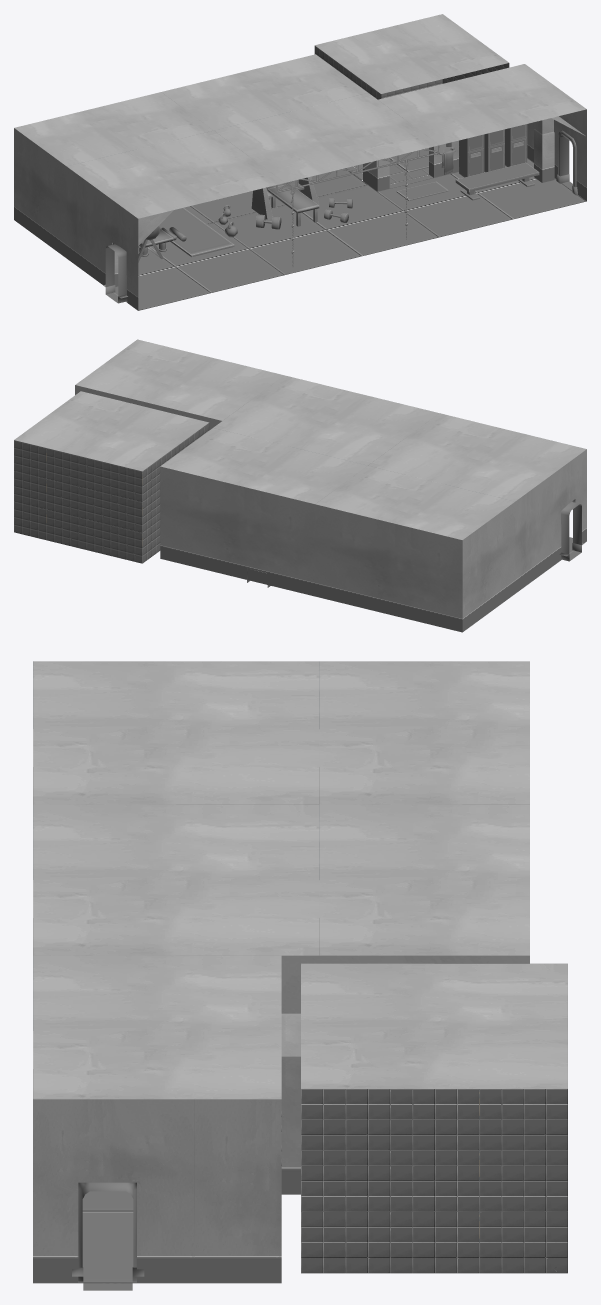
Rendered from MSH_GYM_room_L2_R3_optimized.fbx.
3 views of the same model, one above another, from view 1: azimuth 30°, elevation 25°; view 2: azimuth 150°, elevation 25°; view 3: azimuth 270°, elevation 25° (orthographic). The views are drawn at different scales.
Parts seen in each view (by area): view 1: lightmap0, lightmap1, lightmap-1; view 2: lightmap0, lightmap-1; view 3: lightmap0, lightmap-1.
Boxes of the visible parts, left/top/right/bottom form: lightmap0: left=14, top=14, right=586, bottom=310; lightmap1: left=138, top=124, right=539, bottom=266; lightmap-1: left=105, top=135, right=572, bottom=303; lightmap0: left=14, top=339, right=586, bottom=632; lightmap-1: left=561, top=502, right=581, bottom=561; lightmap0: left=33, top=661, right=567, bottom=1283; lightmap-1: left=82, top=1182, right=133, bottom=1290.
Size of the model in its own units: 30.91 by 6.06 by 15.43.
Materials: 4 (4 with a texture image).
